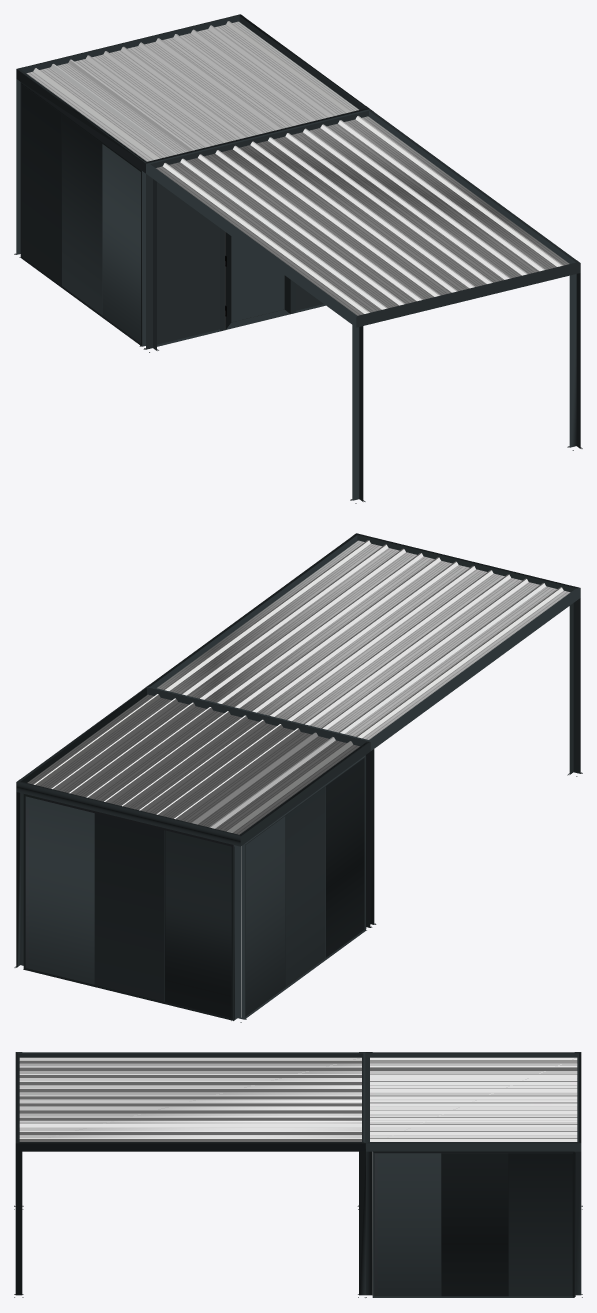
File: 13443_carport5x3abri3x3.fbx
3 views of the same model, one above another, from view 1: azimuth 30°, elevation 25°; view 2: azimuth 150°, elevation 25°; view 3: azimuth 270°, elevation 25° (orthographic). The views are drawn at different scales.
Parts seen in each view (by area): view 1: priximbattable_net_abris_de_voiture_13443_module_carport_abr, folha, porta; view 2: priximbattable_net_abris_de_voiture_13443_module_carport_abr; view 3: priximbattable_net_abris_de_voiture_13443_module_carport_abr.
Boxes of the visible parts, bbox=[...] form: priximbattable_net_abris_de_voiture_13443_module_carport_abr: bbox=[14, 14, 582, 503]; folha: bbox=[225, 232, 290, 329]; porta: bbox=[220, 228, 295, 331]; priximbattable_net_abris_de_voiture_13443_module_carport_abr: bbox=[14, 533, 582, 1022]; priximbattable_net_abris_de_voiture_13443_module_carport_abr: bbox=[14, 1052, 582, 1297].
Bounding box in the file's own units: 324 × 254 × 844.
Materials: 1 (1 with a texture image).
